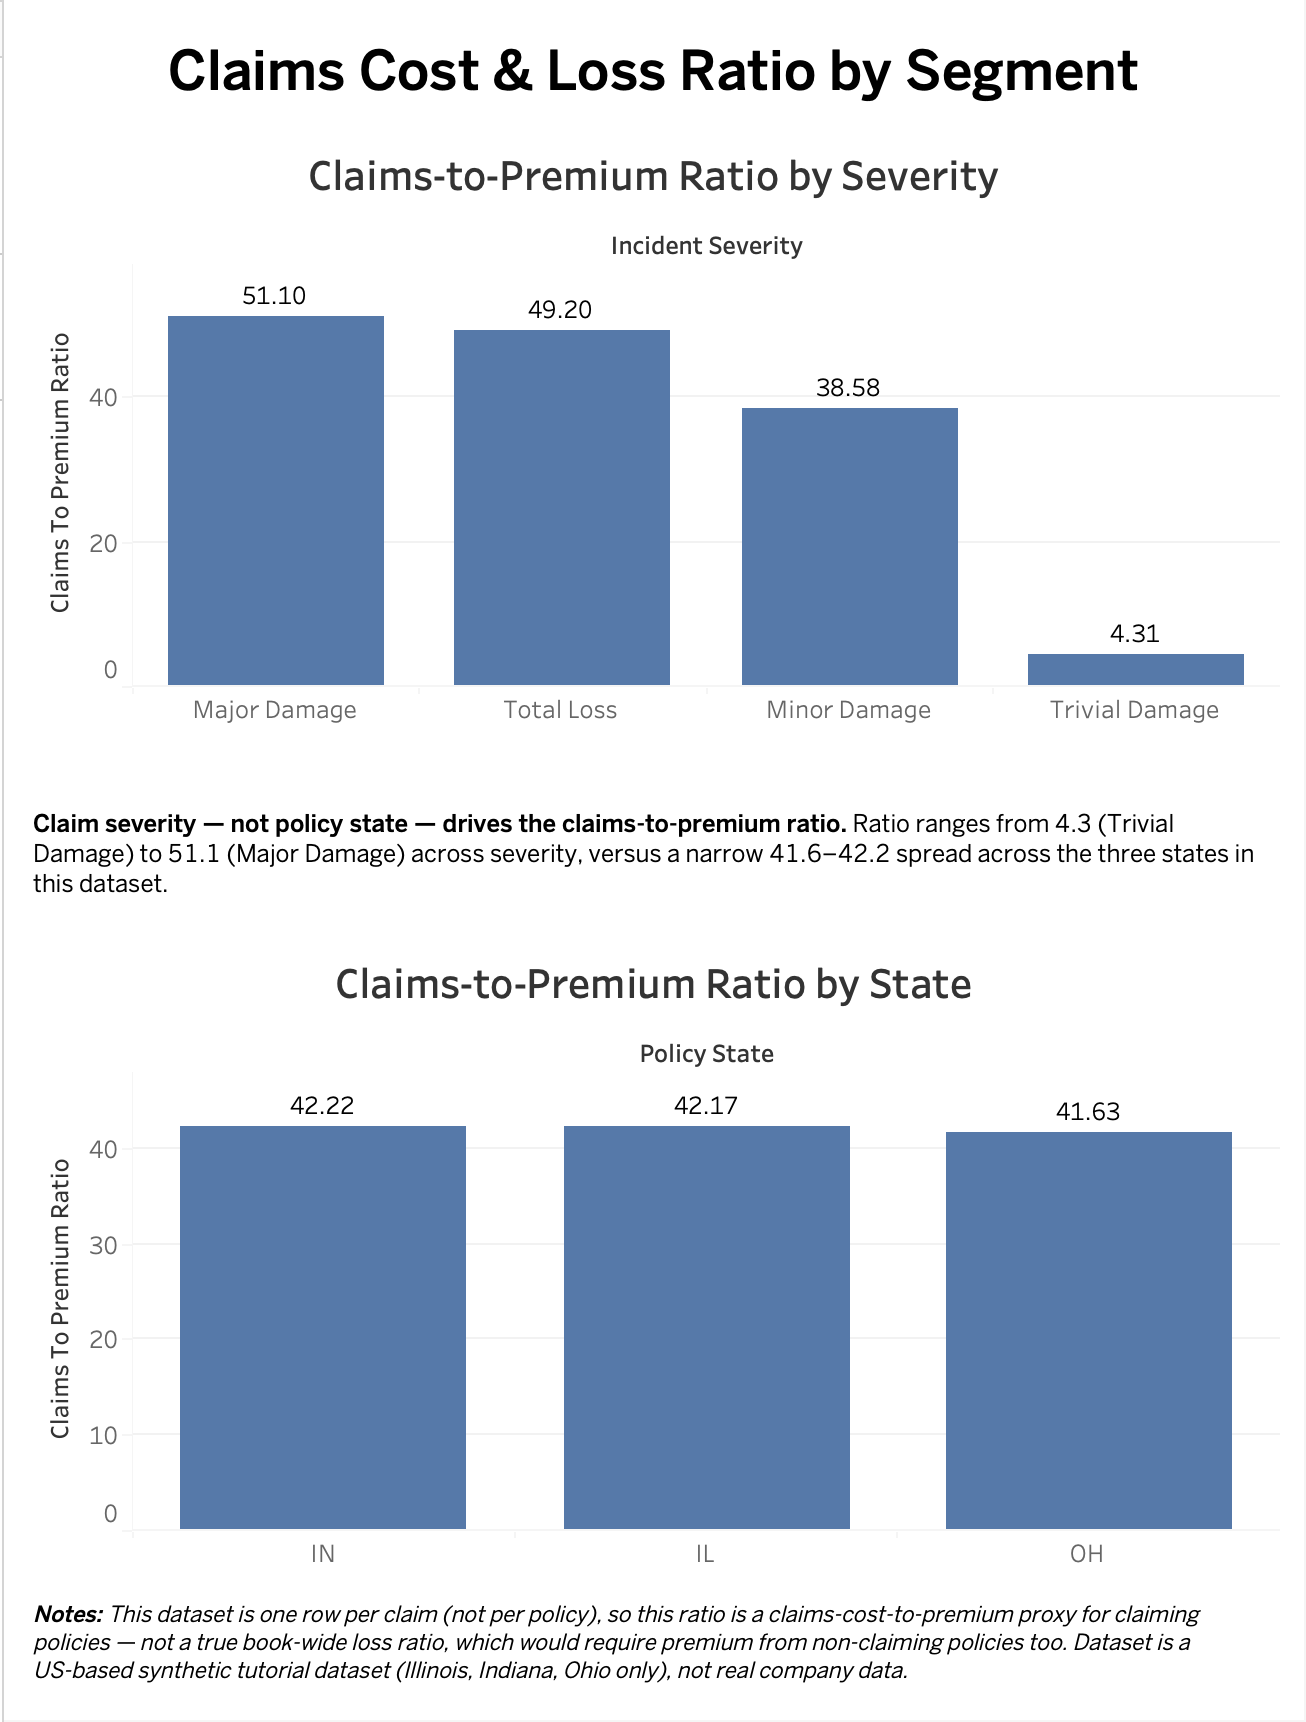

This screenshot's page, from the dashboard's own definition file:
{"tool":"tableau","page":{"name":"Dashboard 1","canvas":[650,860],"ordinal":0},"visuals":[{"type":"text","box":[8,8,634,57]},{"type":"worksheet","title":"Severity Ratio","mark":"Automatic","rows":["claims_to_premium_ratio"],"cols":["incident_severity"],"box":[8,65,634,322]},{"type":"text","box":[8,387,634,82]},{"type":"worksheet","title":"State Ratio","mark":"Automatic","rows":["claims_to_premium_ratio"],"cols":["policy_state"],"box":[8,469,634,321]},{"type":"text","box":[8,790,634,62]}]}

Visuals, with their boxes in screenshot pixels (x1, y1, x2, y2), scaled from the page's 650x860 canvas onto the 1306x1722 screenshot:
text: box(16, 16, 1290, 130)
"Severity Ratio" worksheet: box(16, 130, 1290, 775)
text: box(16, 775, 1290, 939)
"State Ratio" worksheet: box(16, 939, 1290, 1582)
text: box(16, 1582, 1290, 1706)
